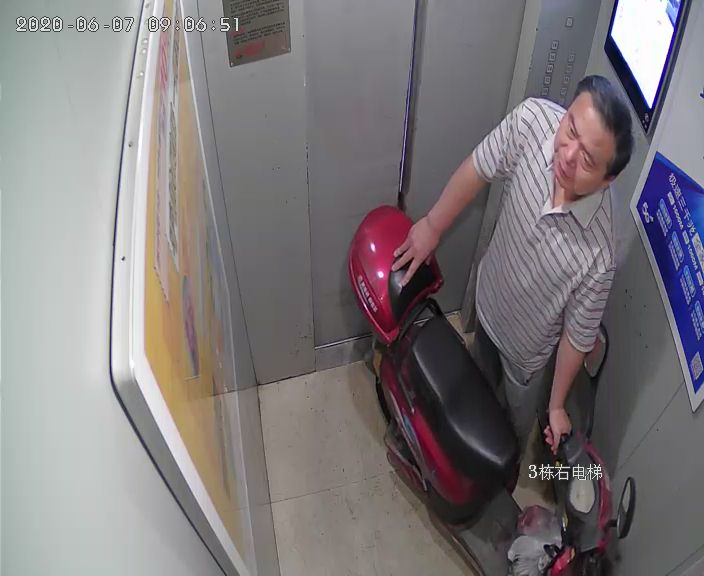Electric-bicycle: (348, 206, 633, 575)
